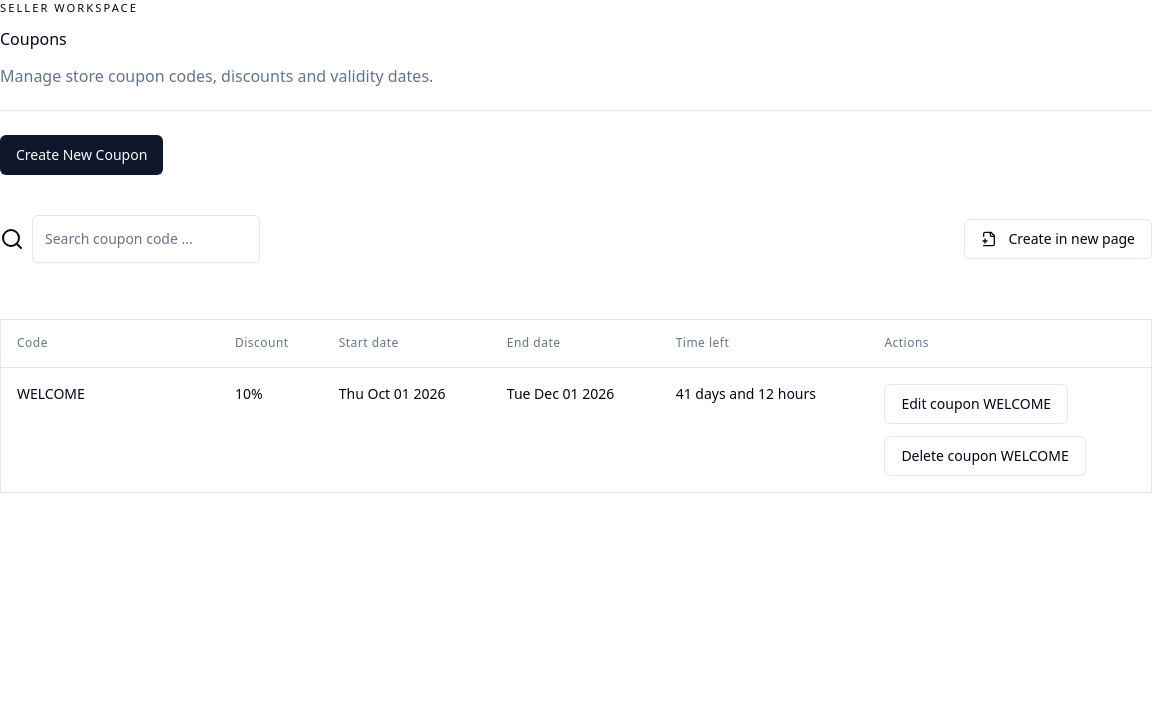
Test: SellerCoupons dialog › 閉じた後に届いた古い取得結果は破棄する
This screenshot has width=1152, height=720.
Click the button "Edit coupon WELCOME": click(976, 404) [884,384,1068,424]
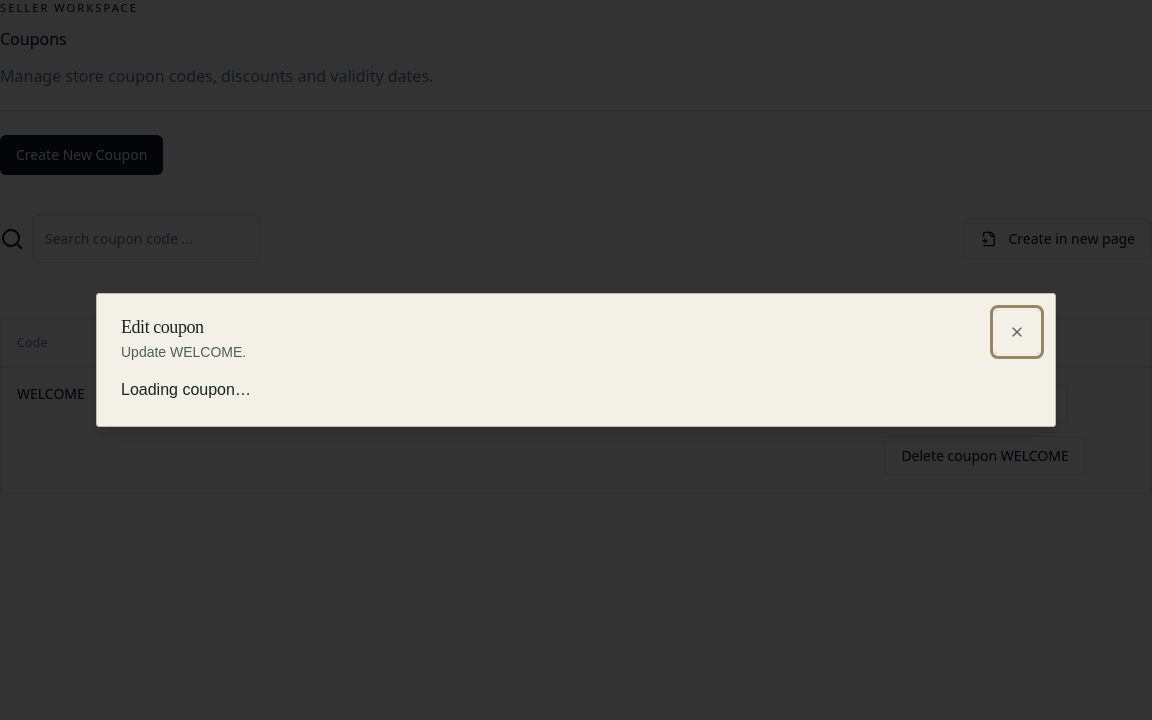
Now the message shows "Loading coupon", box [121,381,251,398]
Press Escape in the dialog, box [96,293,1056,427]
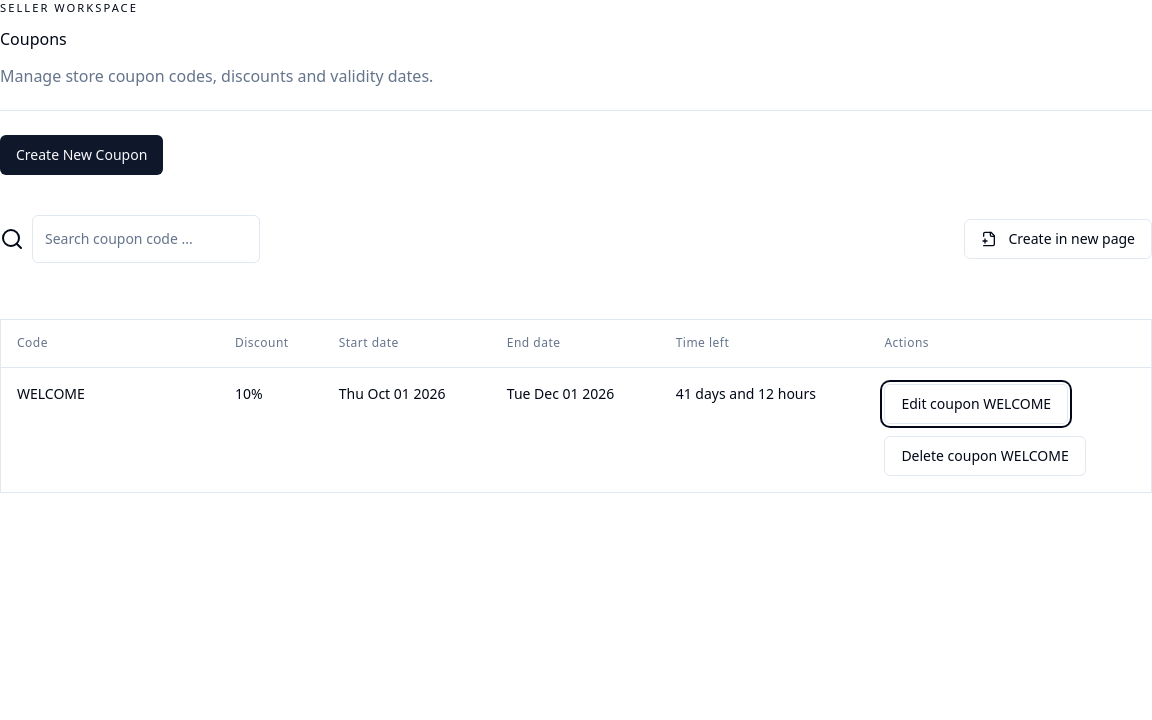
Now the dialog is gone
